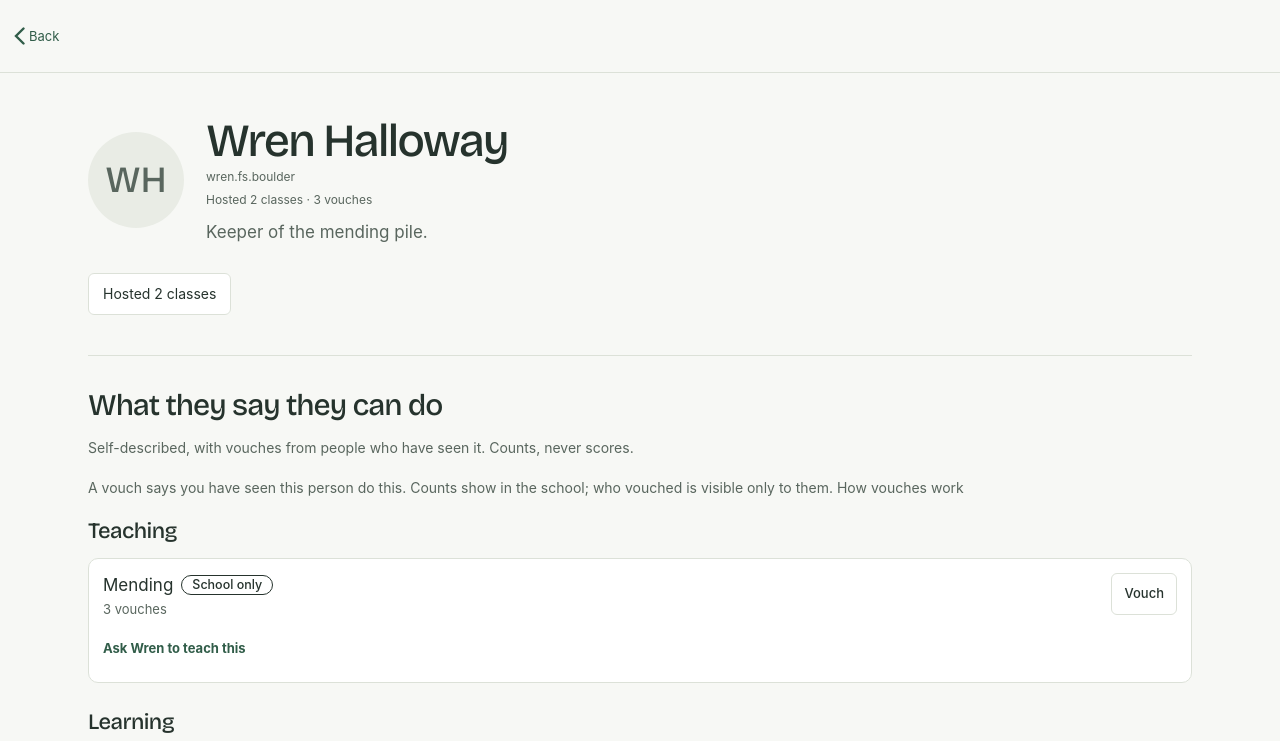
Scenario: MemberProfileScreen › "Ask <name> to teach this" › says the ask joined an existing request when the AppView merged it
Click the button "Ask Wren to teach this" at x=174, y=648, box [103,628,246,668]
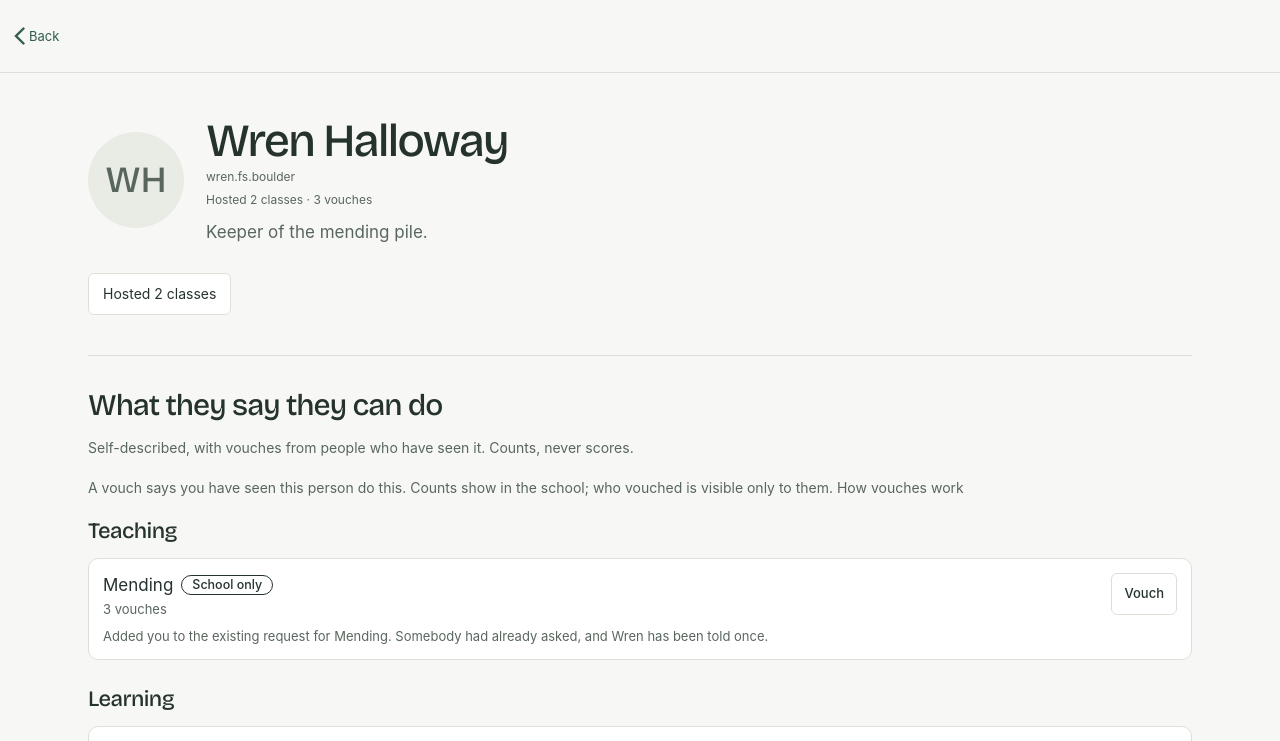
Expected: the text "Added you to the existing request for Mending" is shown, [103,628,768,644]
